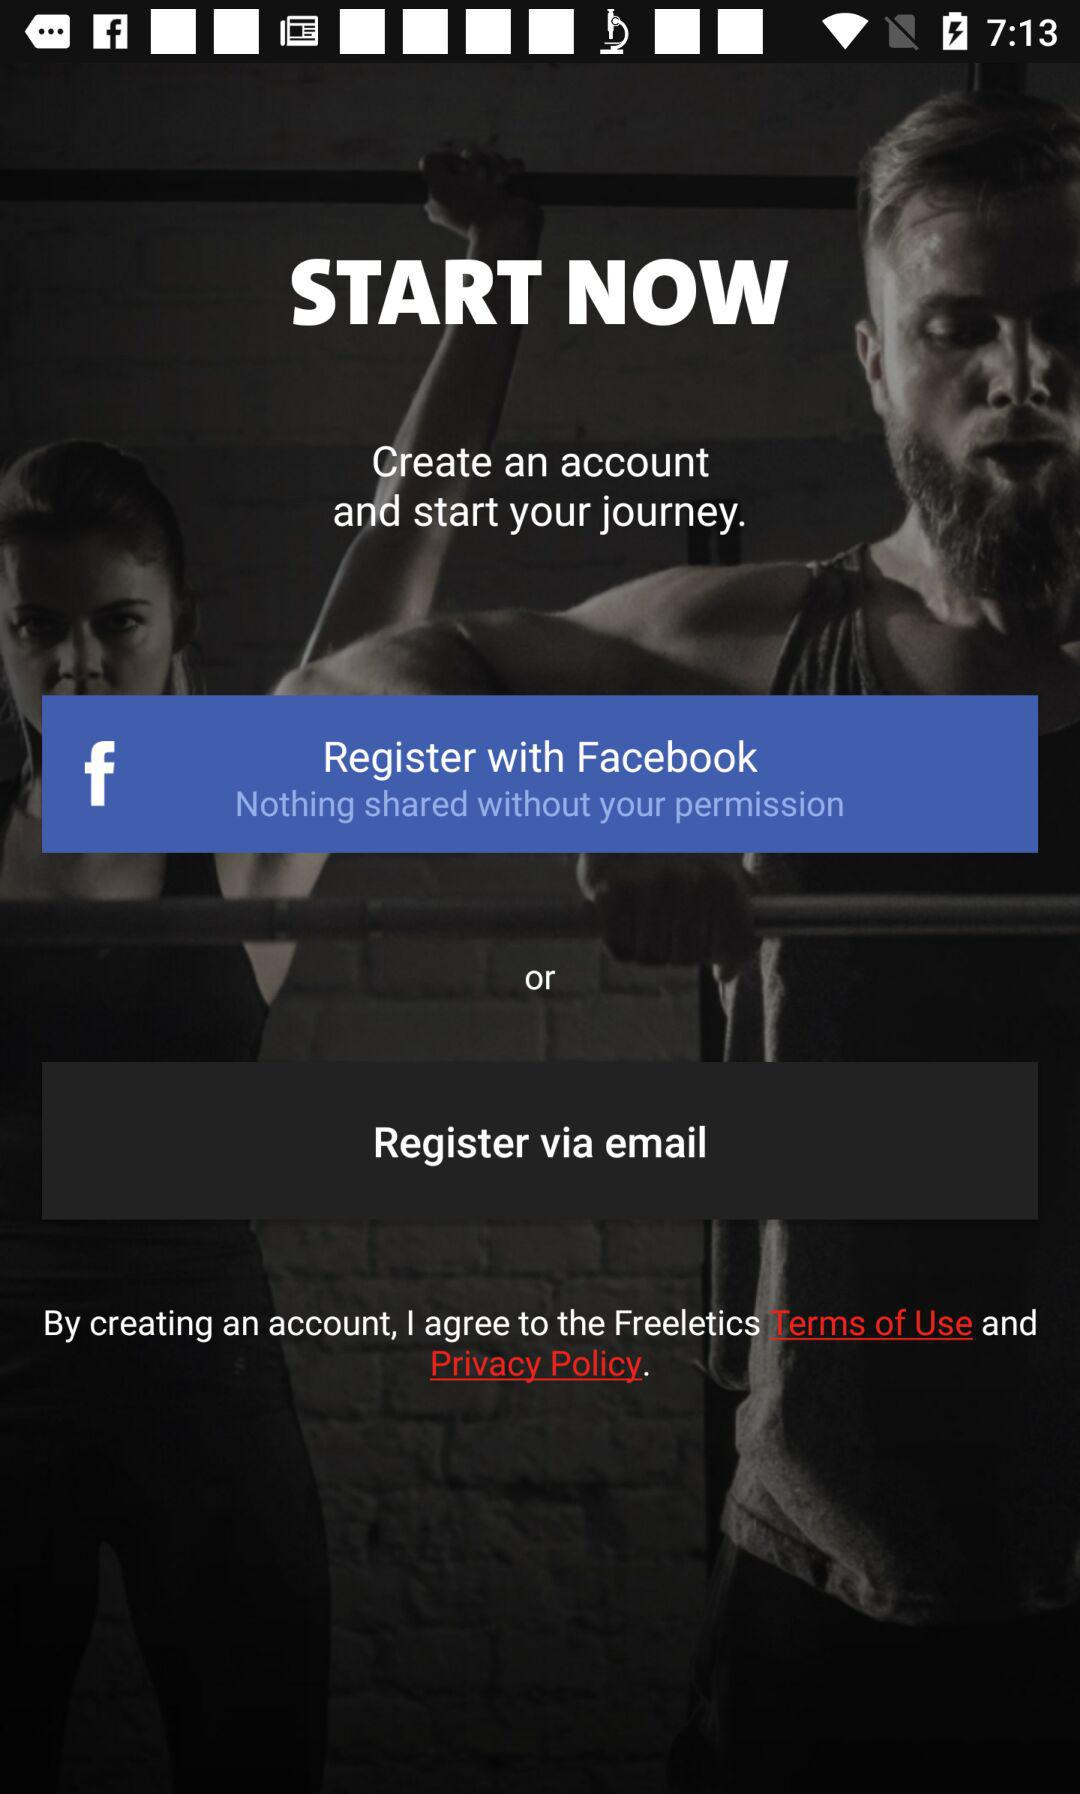Text: (45, 1308, 1038, 1387), (333, 445, 749, 541), (291, 258, 790, 328), (521, 966, 562, 994)
TextButton: (42, 695, 1039, 853), (42, 1062, 1039, 1221)
UpperTaskBar: (1, 1, 1080, 64)
